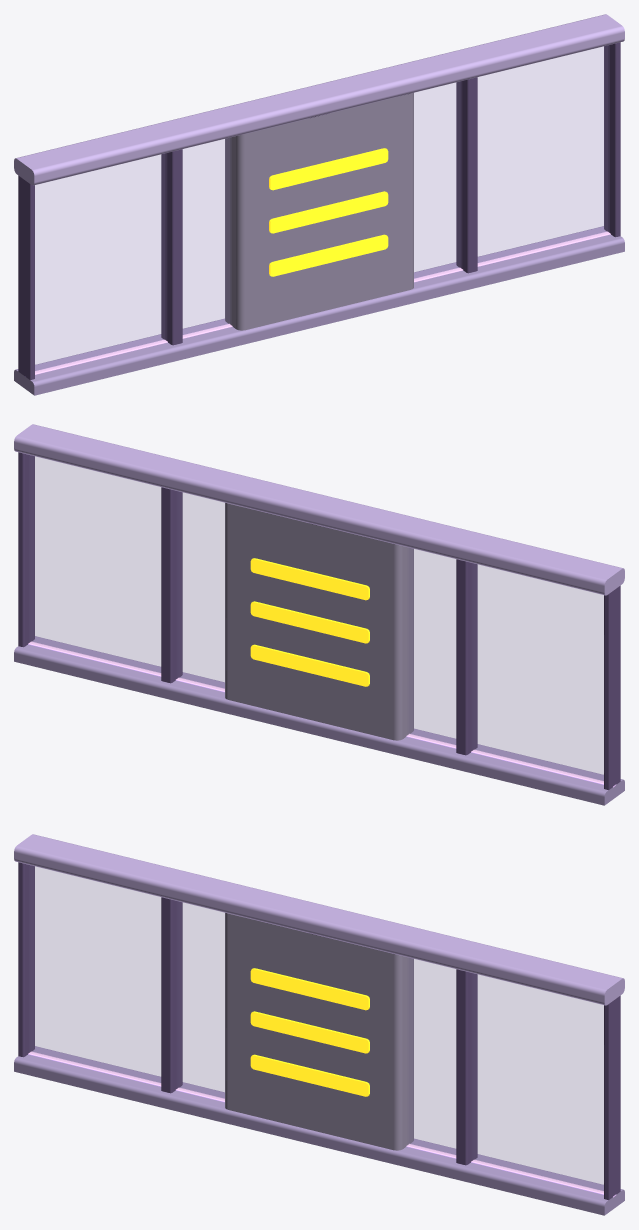
Rendered from window_glass.glb.
3 renders of one model, top to bottom at view 1: azimuth 30°, elevation 25°; view 2: azimuth 150°, elevation 25°; view 3: azimuth 330°, elevation 25°, orthographic.
Parts seen in each view (by area): view 1: window_straight_Glass, window_lamp_Body, window_straight_Cap, window_straight_Frame, window_straight_Base, window_lamp_Cap, window_lamp_Amber, window_lamp_Base, window_straight_Neon; view 2: window_straight_Glass, window_lamp_Body, window_straight_Cap, window_straight_Frame, window_straight_Base, window_lamp_Amber, window_lamp_Cap, window_lamp_Base, window_straight_Neon; view 3: window_straight_Glass, window_lamp_Body, window_straight_Cap, window_straight_Frame, window_straight_Base, window_lamp_Amber, window_lamp_Cap, window_lamp_Base, window_straight_Neon.
Boxes of the visible parts, x1=… form: window_straight_Glass: x1=35, y1=46, x2=608, y2=371; window_lamp_Body: x1=225, y1=93, x2=413, y2=330; window_straight_Cap: x1=14, y1=14, x2=624, y2=185; window_straight_Frame: x1=18, y1=42, x2=620, y2=380; window_straight_Base: x1=14, y1=226, x2=624, y2=395; window_lamp_Cap: x1=223, y1=65, x2=418, y2=134; window_lamp_Amber: x1=269, y1=148, x2=388, y2=276; window_lamp_Base: x1=222, y1=287, x2=418, y2=345; window_straight_Neon: x1=35, y1=231, x2=610, y2=374; window_straight_Glass: x1=30, y1=456, x2=603, y2=781; window_lamp_Body: x1=225, y1=503, x2=413, y2=740; window_straight_Cap: x1=14, y1=424, x2=624, y2=595; window_straight_Frame: x1=18, y1=452, x2=620, y2=790; window_straight_Base: x1=14, y1=636, x2=624, y2=805; window_lamp_Amber: x1=250, y1=558, x2=369, y2=686; window_lamp_Cap: x1=220, y1=475, x2=415, y2=544; window_lamp_Base: x1=220, y1=697, x2=416, y2=755; window_straight_Neon: x1=28, y1=641, x2=616, y2=787; window_straight_Glass: x1=30, y1=866, x2=603, y2=1191; window_lamp_Body: x1=225, y1=913, x2=413, y2=1150; window_straight_Cap: x1=14, y1=834, x2=624, y2=1005; window_straight_Frame: x1=18, y1=862, x2=620, y2=1200; window_straight_Base: x1=14, y1=1046, x2=624, y2=1215; window_lamp_Amber: x1=250, y1=968, x2=369, y2=1096; window_lamp_Cap: x1=221, y1=885, x2=416, y2=954; window_lamp_Base: x1=220, y1=1108, x2=416, y2=1165; window_straight_Neon: x1=28, y1=1051, x2=616, y2=1197.
Size of the model in its own units: 4 by 1.45 by 0.24.
